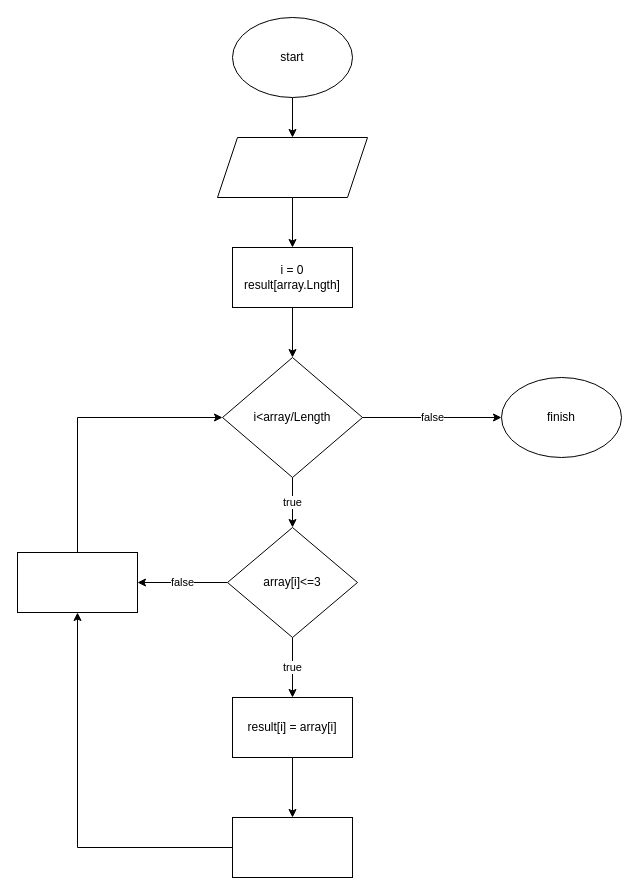
Image size: 639x895. Some labels were removed from this diagram. Each missing label, with the box of its shape:
arrayLength, array[arrayLength]: (216, 136, 368, 198)
i++: (16, 552, 138, 612)
result[i]: (232, 816, 352, 878)
